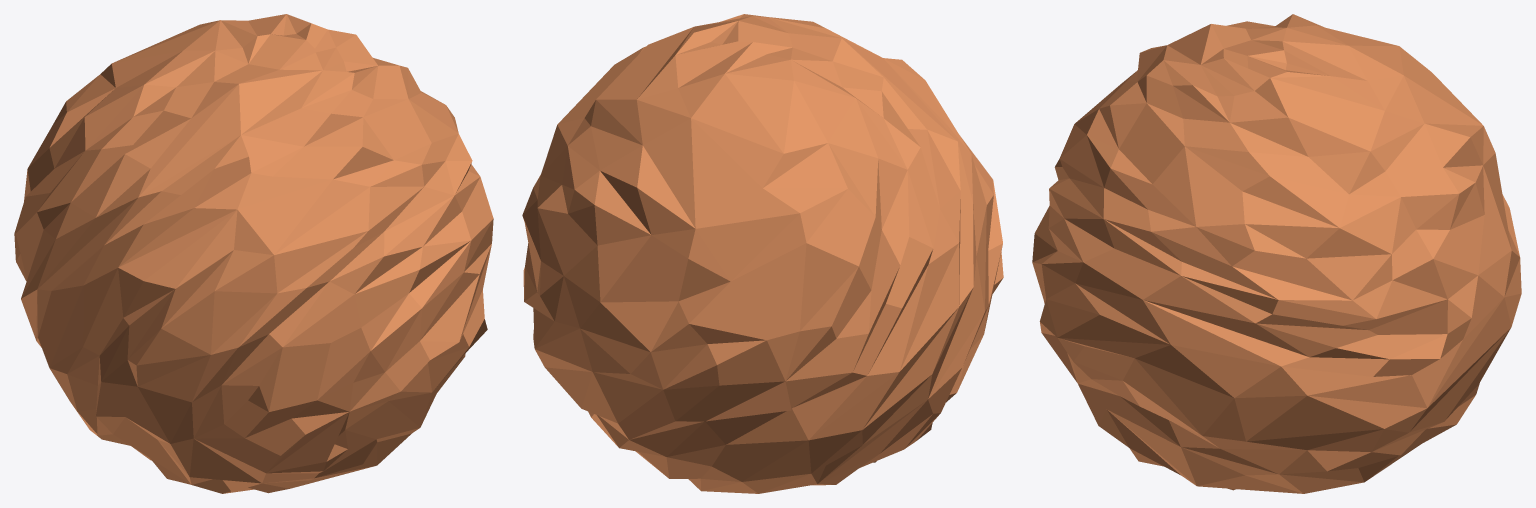
Rendered from Venus.fbx.
3 views of the same model, side by side, from view 1: azimuth 30°, elevation 25°; view 2: azimuth 150°, elevation 25°; view 3: azimuth 270°, elevation 25° (orthographic).
Visible parts, largest first — view 1: Venus; view 2: Venus; view 3: Venus.
Part boxes in pixels (x1,y1,x2,y2): Venus: (14, 14, 493, 493); Venus: (522, 14, 1003, 493); Venus: (1032, 14, 1521, 493).
Bounding box in the file's own units: 2.1 × 2.08 × 2.11.
